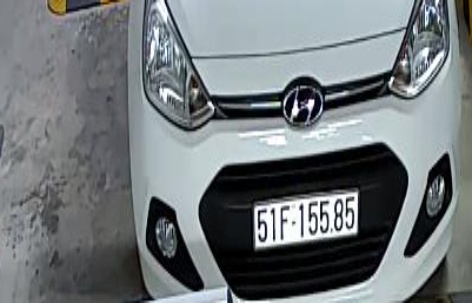plate: (248, 186, 366, 249)
